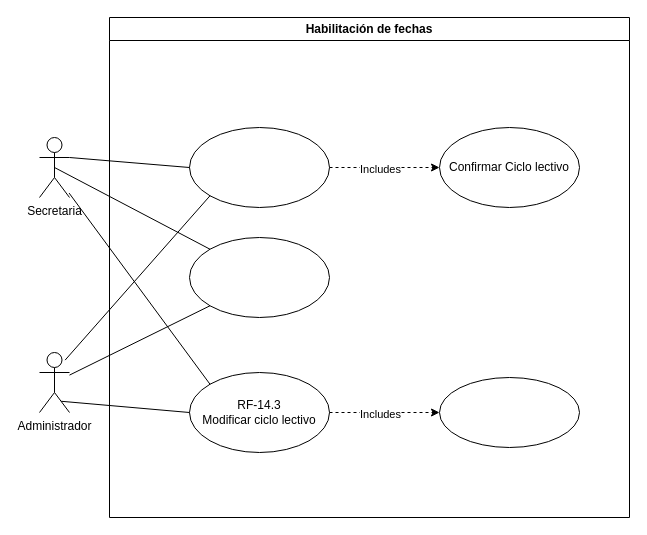
Image size: 647x535. Some labels were removed from this diagram. Each missing label, with the box of its shape:
RF-14.1 Agregar ciclo lectivo: (188, 126, 330, 208)
RF-14.2 Consultar ciclo lectivo: (188, 236, 330, 318)
RF-14.3.7 Validar datos: (438, 376, 580, 448)
